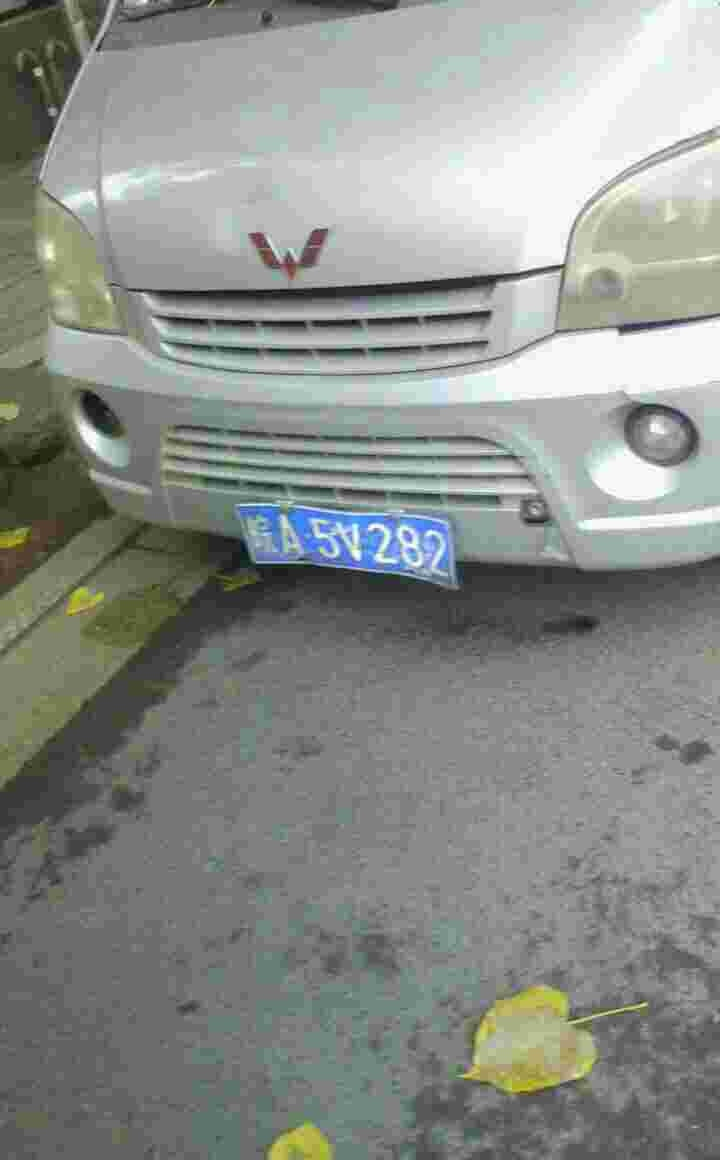license_plate: (240, 505, 462, 588)
